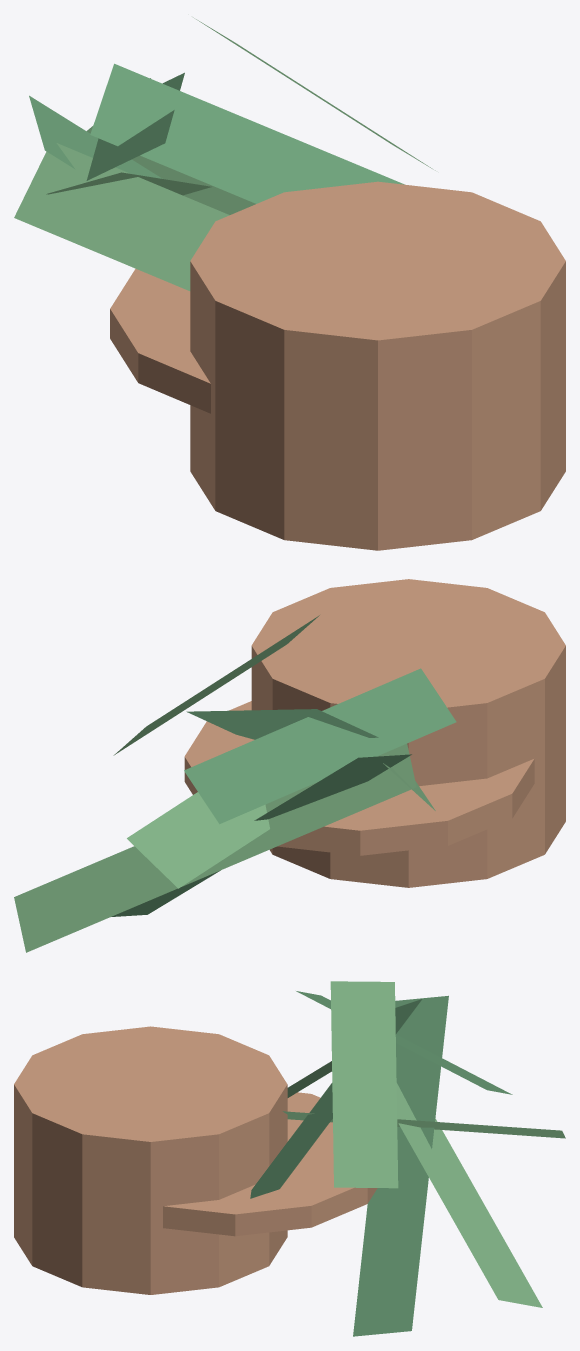
Rendered from potted_plant.glb.
3 renders of one model, top to bottom at view 1: azimuth 30°, elevation 25°; view 2: azimuth 150°, elevation 25°; view 3: azimuth 270°, elevation 25°, orthographic. The views are drawn at different scales.
Visible parts, largest first — view 1: pot, leaf_1, leaf_4, pot_rim, leaf_5, leaf_3, leaf_0, leaf_6; view 2: pot, leaf_3, leaf_6, pot_rim, leaf_0, leaf_5, leaf_1, leaf_2; view 3: pot, leaf_5, leaf_2, pot_rim, leaf_6, leaf_1, leaf_0, leaf_3, leaf_4.
Boxes of the visible parts, <box> form: pot: <box>190,181,565,550</box>; leaf_1: <box>90,63,404,203</box>; leaf_4: <box>14,143,229,290</box>; pot_rim: <box>110,268,210,413</box>; leaf_5: <box>29,95,162,178</box>; leaf_3: <box>86,72,184,180</box>; leaf_0: <box>87,78,255,214</box>; leaf_6: <box>46,172,211,195</box>; pot: <box>251,579,565,887</box>; leaf_3: <box>184,668,456,824</box>; leaf_6: <box>14,743,416,952</box>; pot_rim: <box>184,701,534,855</box>; leaf_0: <box>127,792,269,888</box>; leaf_5: <box>111,754,411,916</box>; leaf_1: <box>186,709,378,739</box>; leaf_2: <box>113,615,319,755</box>; pot: <box>14,1026,287,1294</box>; leaf_5: <box>353,995,448,1336</box>; leaf_2: <box>330,981,398,1188</box>; pot_rim: <box>163,1092,377,1236</box>; leaf_6: <box>396,1083,542,1307</box>; leaf_1: <box>250,999,422,1198</box>; leaf_0: <box>282,1111,565,1138</box>; leaf_3: <box>296,991,512,1094</box>; leaf_4: <box>287,1061,331,1097</box>.
Bounding box in the file's own units: 0.902 × 0.7879 × 1.37.
